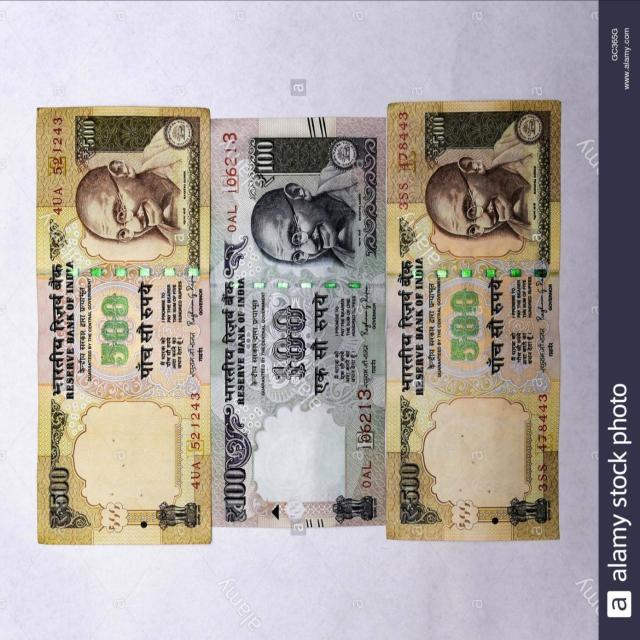100IndianRupees: (210, 117, 381, 528)
